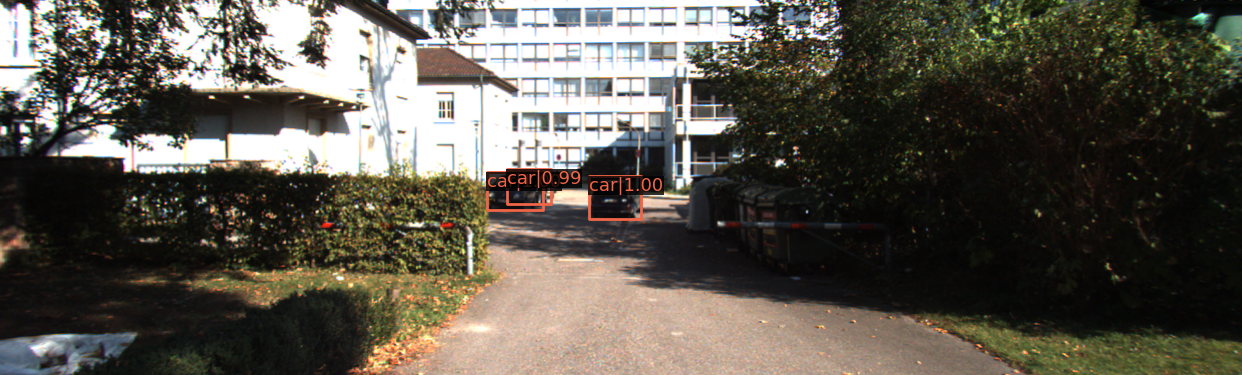car: (589, 180, 647, 219), (485, 174, 540, 211), (503, 171, 550, 210)
